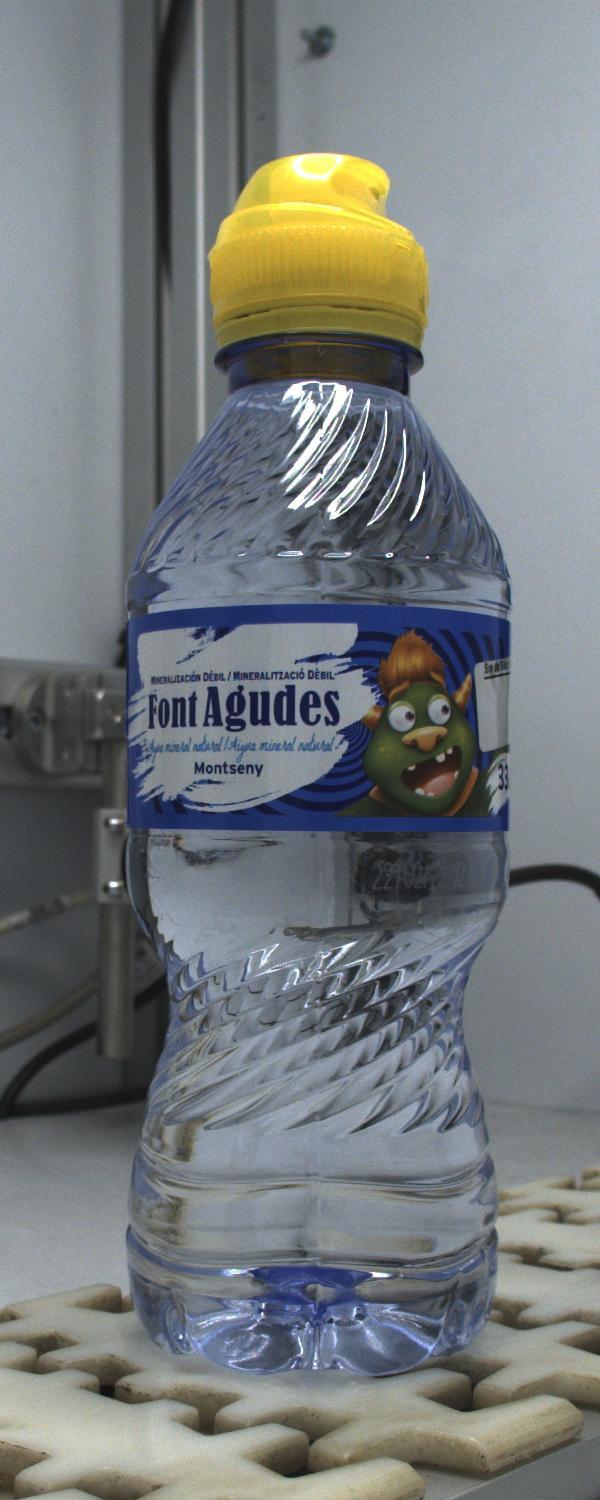bottle: (128, 154, 509, 1373)
cap: (128, 154, 509, 1373), (209, 153, 428, 350)
